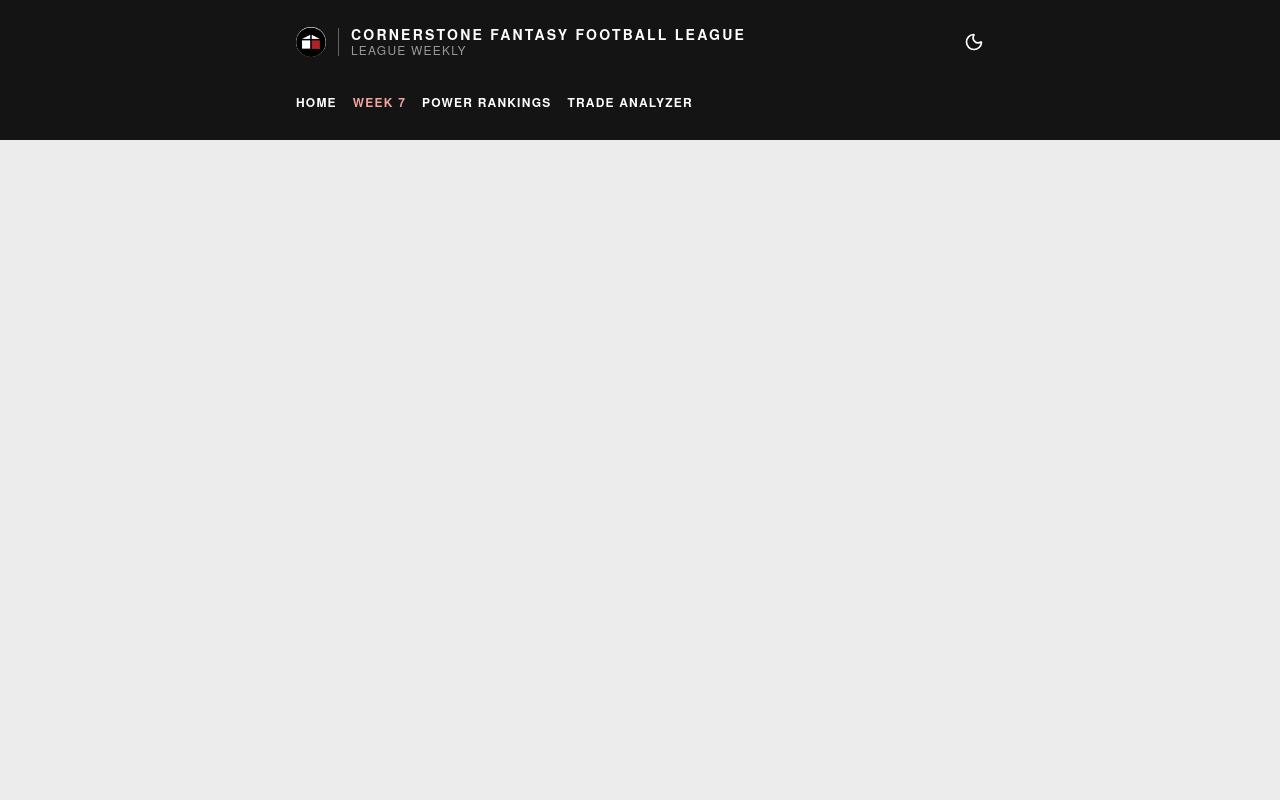
Test: Theme button › switches back to the light theme on a second press and stores the choice
Click the button named "Switch to dark theme" at (974, 42), box 952,20 -> 996,64
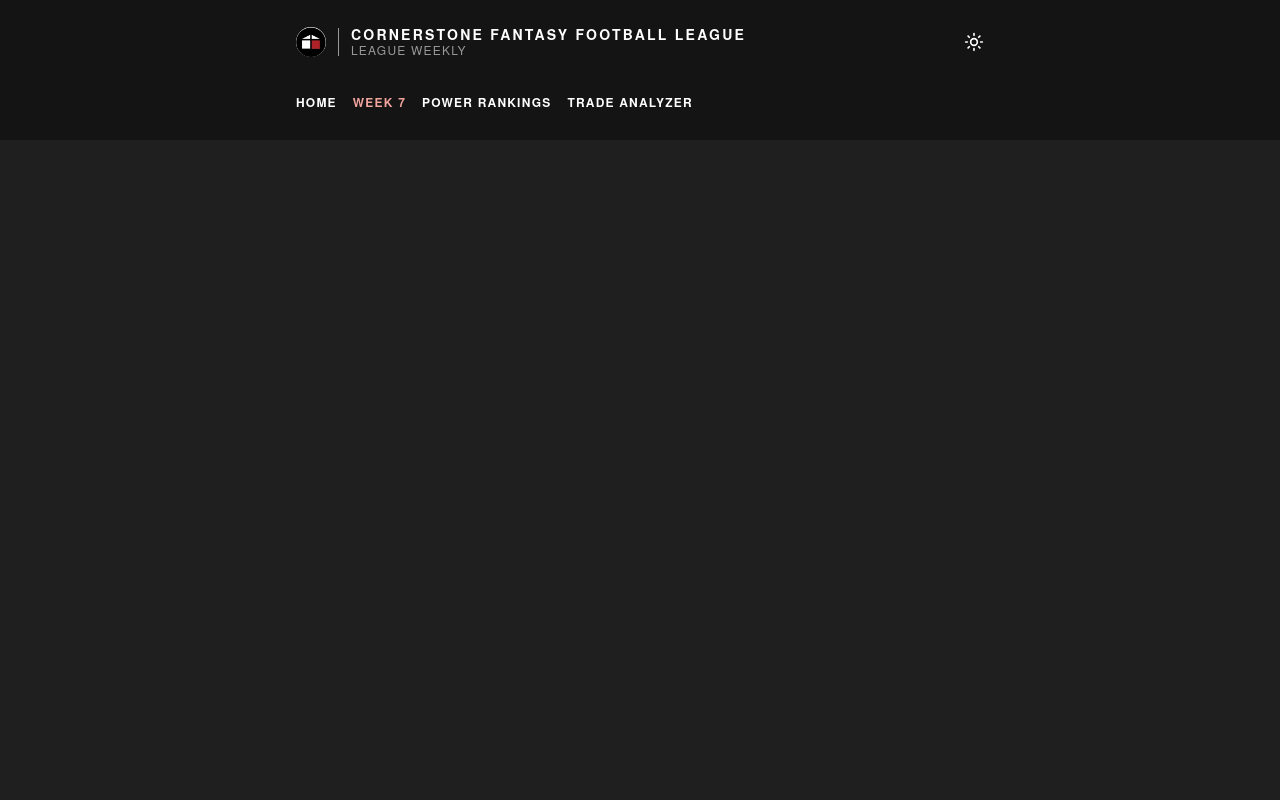
Click the button named "Switch to light theme" at (974, 42), box 952,20 -> 996,64
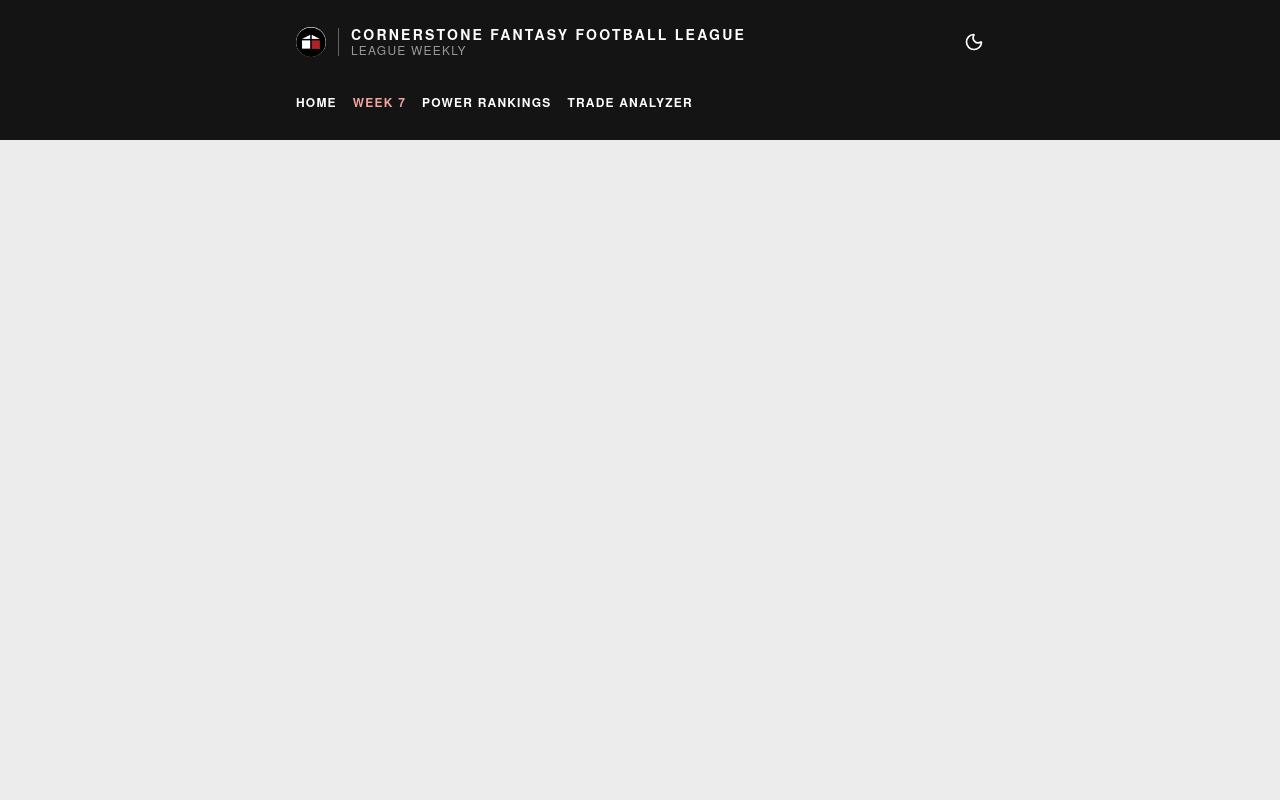
Expected: the button named "Switch to dark theme" is shown, 952,20 -> 996,64
